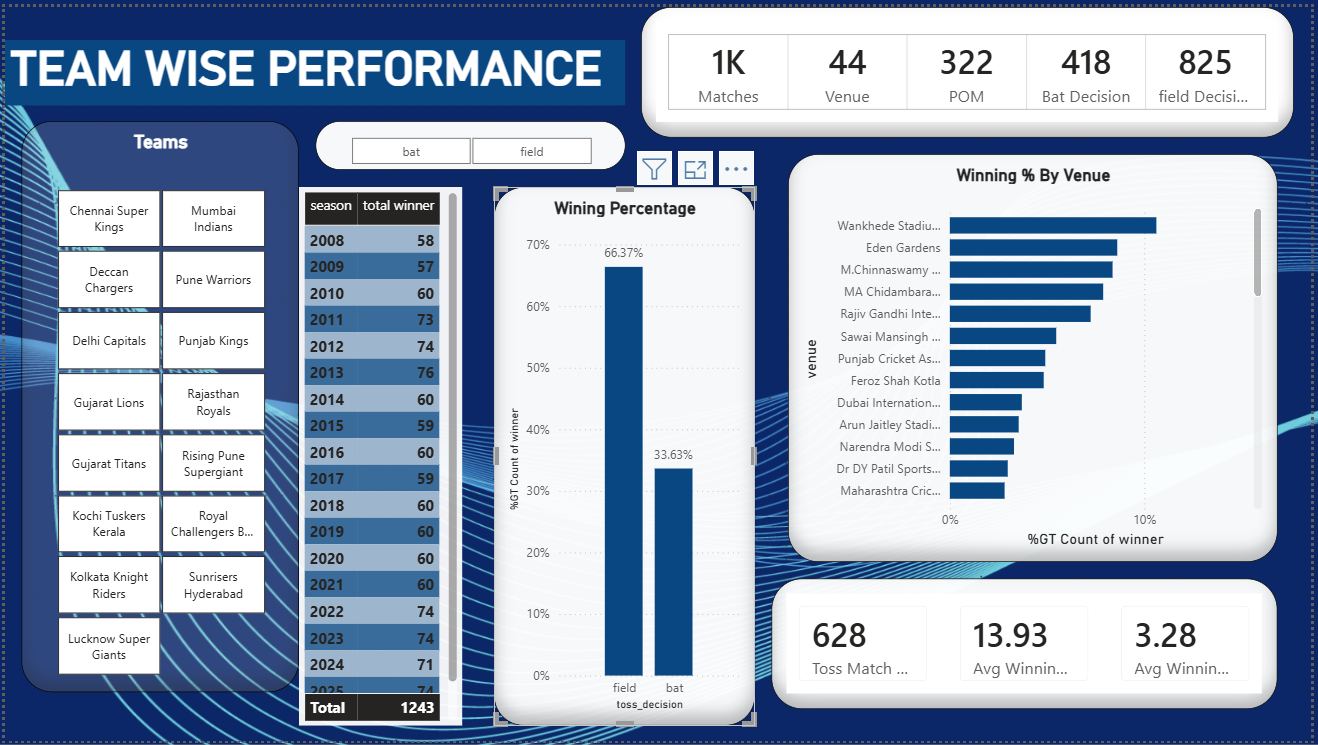

This screenshot's page, from the dashboard's own definition file:
{"tool":"powerbi","page":{"name":"Team Wise","canvas":[1280,720],"ordinal":1},"visuals":[{"type":"slicer","title":"Teams","fields":{"Values":["ipl_comprehensive_dataset.team1"]},"box":[16,112,272,560],"z":0},{"type":"textbox","title":"TEAM  WISE PERFORMANCE","box":[0,32,608,64],"z":1000},{"type":"cardVisual","fields":{"Data":["ipl_comprehensive_dataset.Total Matches","ipl_comprehensive_dataset.Total Venue","ipl_comprehensive_dataset.Total POM","ipl_comprehensive_dataset.Bat Decision","ipl_comprehensive_dataset.field Decision"]},"box":[624,0,640,128],"z":2000},{"type":"tableEx","fields":{"Values":["ipl_comprehensive_dataset.season","ipl_comprehensive_dataset.total winner"]},"box":[288,176,160,528],"z":3000},{"type":"columnChart","title":"Wining Percentage","fields":{"Category":["ipl_comprehensive_dataset.toss_decision"],"Y":["CountNonNull(ipl_comprehensive_dataset.winner)"]},"box":[480,176,256,528],"z":4000},{"type":"clusteredBarChart","title":"Winning % By Venue","fields":{"Category":["ipl_comprehensive_dataset.venue"],"Y":["CountNonNull(ipl_comprehensive_dataset.winner)"]},"box":[768,144,480,400],"z":5000},{"type":"cardVisual","fields":{"Data":["ipl_comprehensive_dataset.Toss Match Wins","ipl_comprehensive_dataset.Avg Winning Run","ipl_comprehensive_dataset.Avg Winning Wickets"]},"box":[752,560,496,128],"z":6000},{"type":"slicer","fields":{"Values":["ipl_comprehensive_dataset.toss_decision"]},"box":[304,112,304,48],"z":6001}]}

Visuals, with their boxes in screenshot pixels (x1, y1, x2, y2), scaled from the page's 1280x720 canvas onto the 1318x745 screenshot:
"Teams" slicer: BBox(16, 116, 297, 695)
"TEAM  WISE PERFORMANCE" textbox: BBox(0, 33, 626, 99)
cardVisual - ipl_comprehensive_dataset.Total Matches x ipl_comprehensive_dataset.Total Venue: BBox(643, 0, 1302, 132)
tableEx - ipl_comprehensive_dataset.season x ipl_comprehensive_dataset.total winner: BBox(297, 182, 461, 728)
"Wining Percentage" columnChart: BBox(494, 182, 758, 728)
"Winning % By Venue" clusteredBarChart: BBox(791, 149, 1285, 563)
cardVisual - ipl_comprehensive_dataset.Toss Match Wins x ipl_comprehensive_dataset.Avg Winning Run: BBox(774, 579, 1285, 712)
slicer - ipl_comprehensive_dataset.toss_decision: BBox(313, 116, 626, 166)
